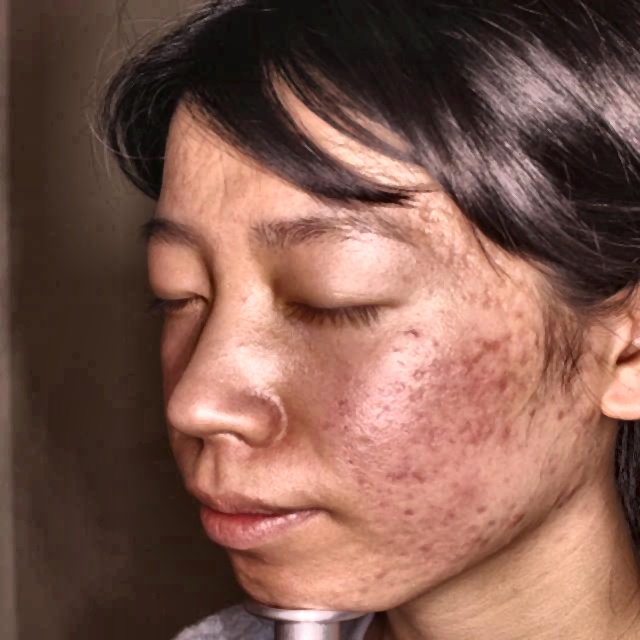pustule: (460, 529, 510, 564), (489, 370, 527, 398), (580, 391, 598, 431), (550, 406, 570, 428), (498, 514, 526, 528), (481, 336, 508, 349)
